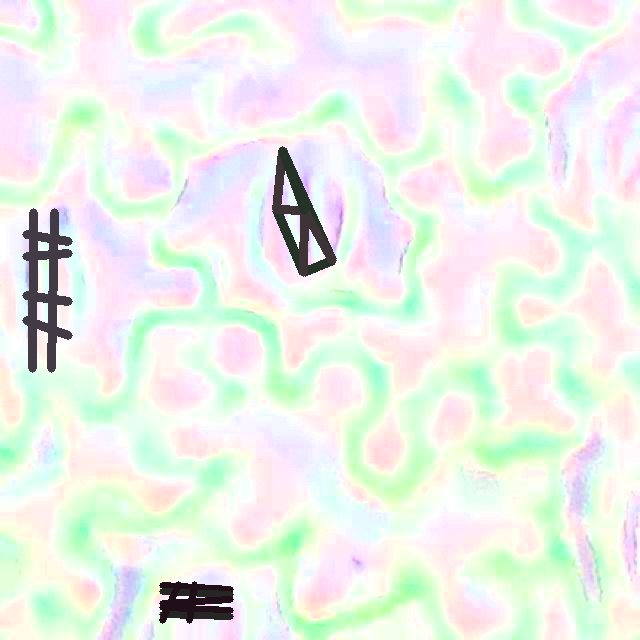open: (273, 146, 336, 275), (23, 208, 72, 371), (160, 581, 233, 622)
